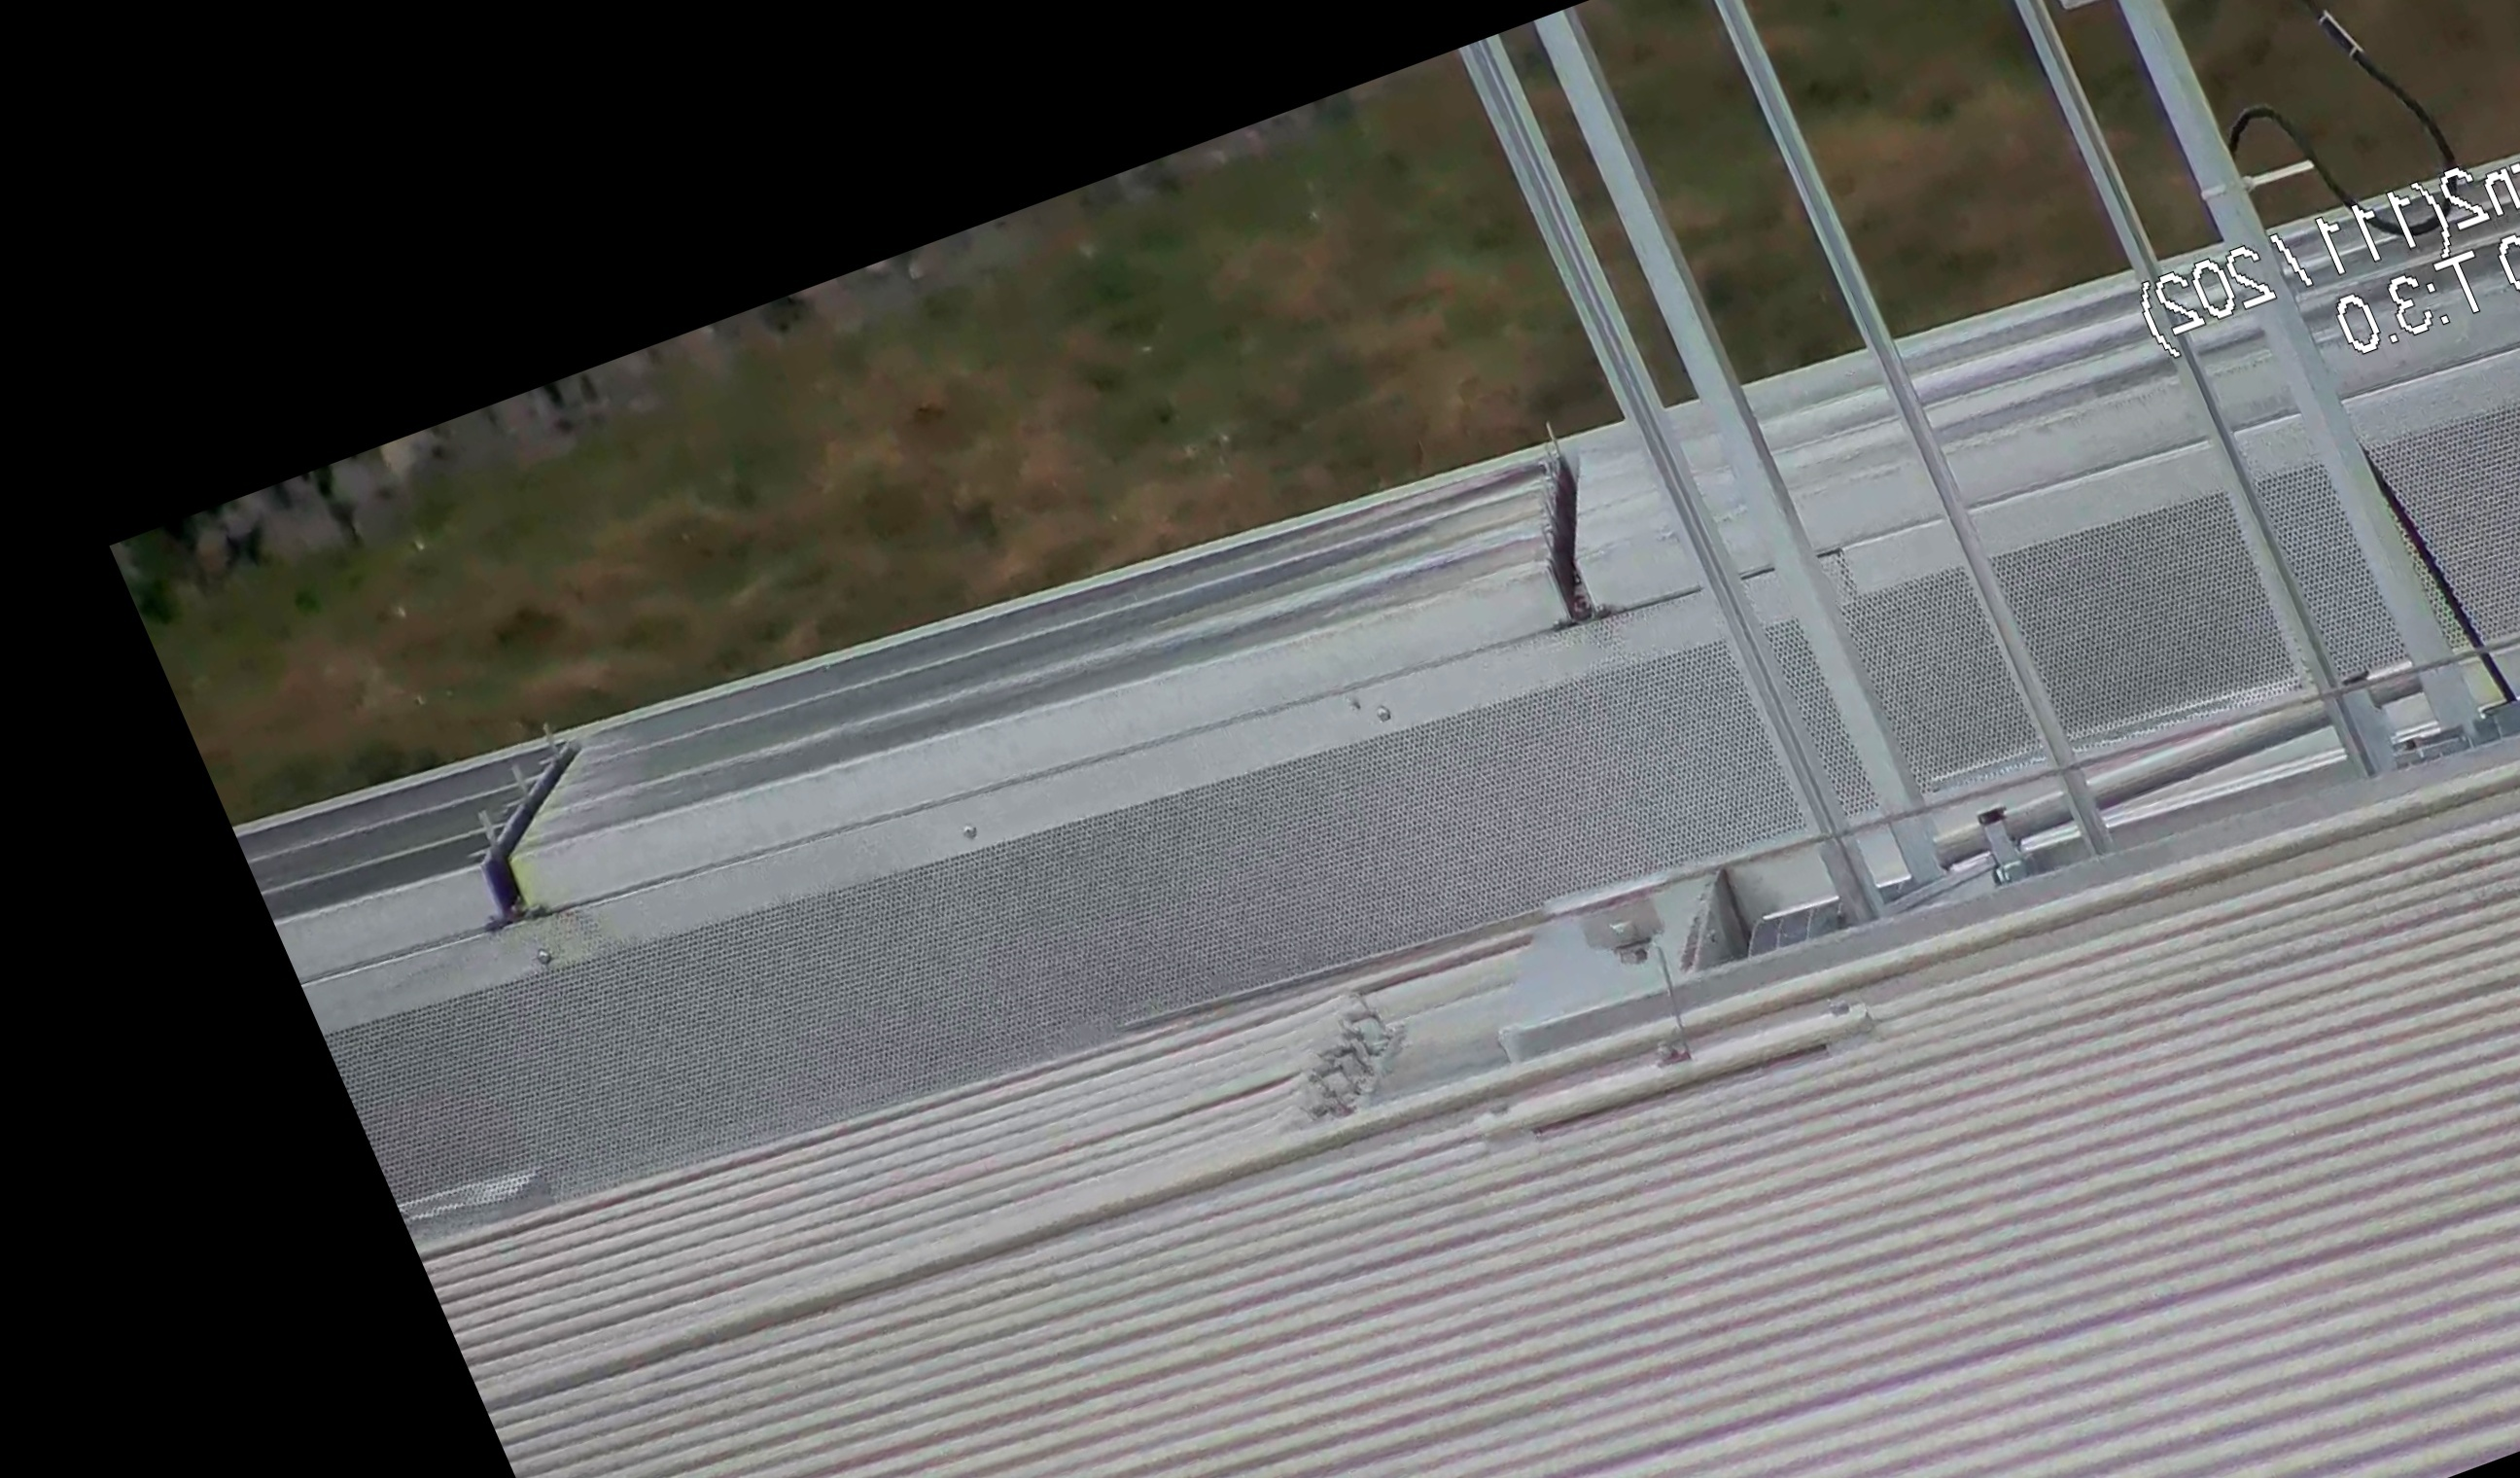Other: (1461, 408, 1655, 644)
